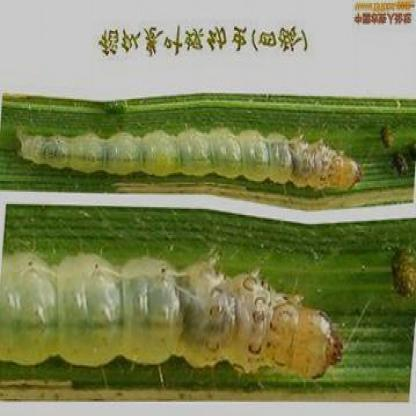leaf-folder: (40, 246, 358, 384), (9, 116, 388, 199)
